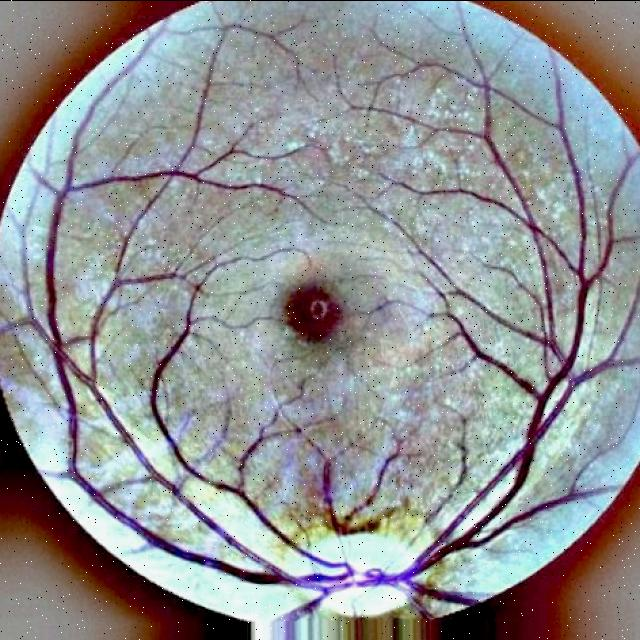Macula: (286, 285, 344, 340)
Nerves: (91, 340, 640, 617), (71, 405, 252, 580), (323, 453, 400, 537), (422, 418, 469, 527)
Optic Disk: (288, 534, 416, 616)
